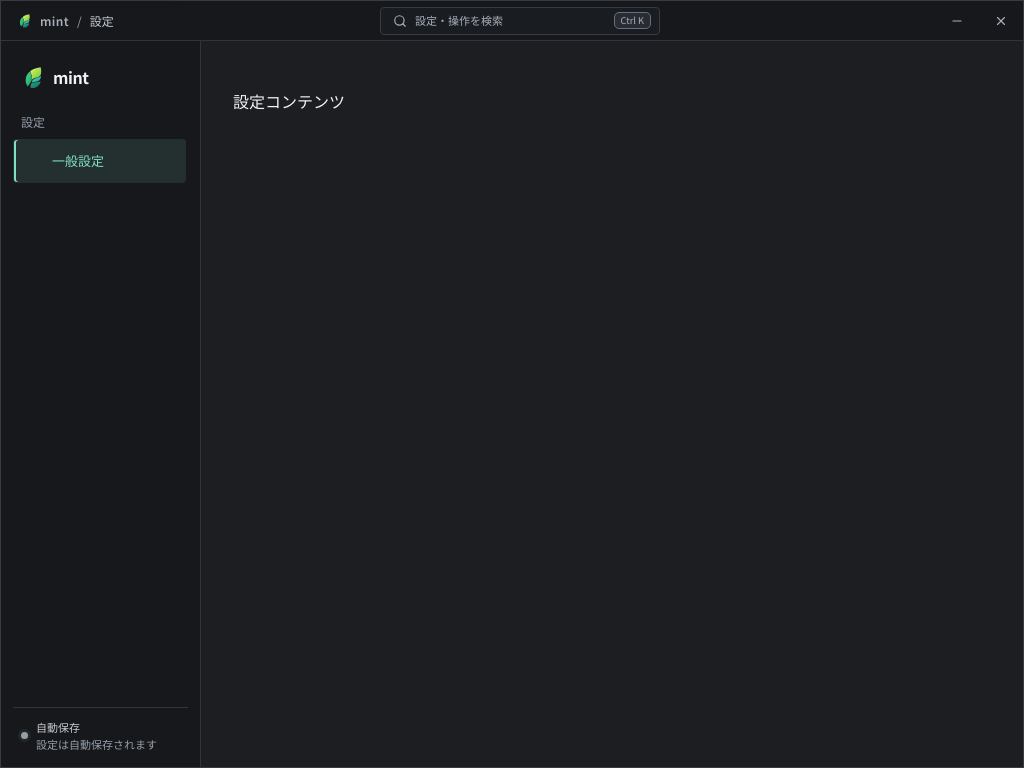
it: AppShell › keeps the quick launcher open when an action fails
Press k
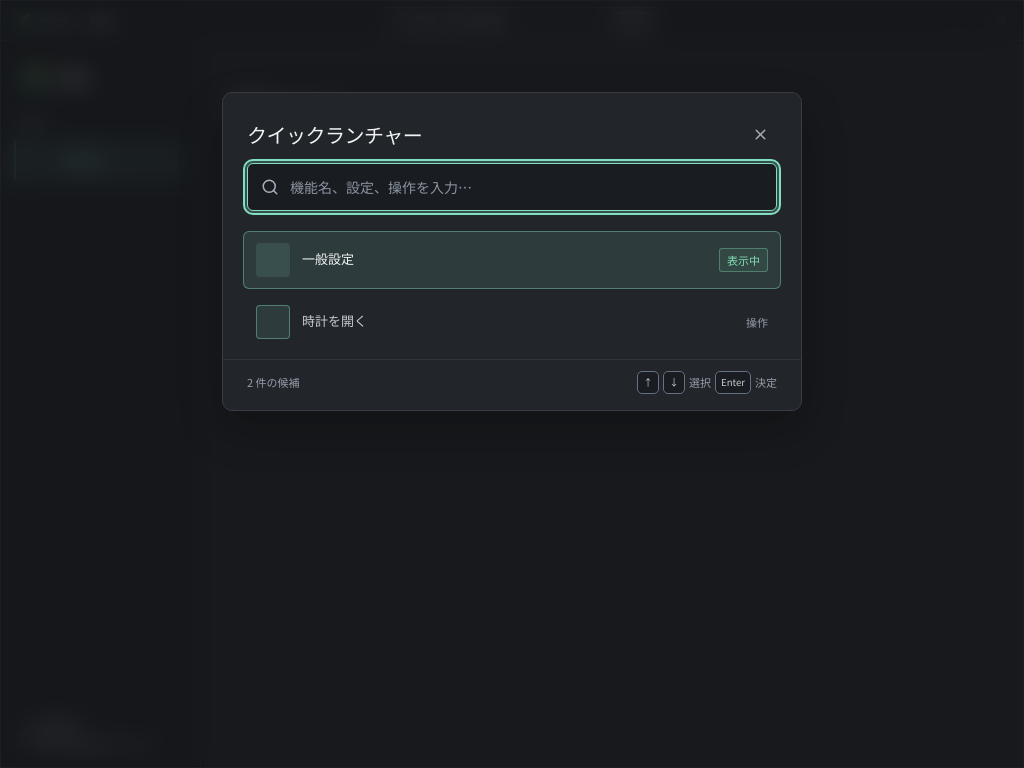
Type "時計" into the dropdown named "設定や項目、操作を検索" at (512, 187), box [247,163,777,211]
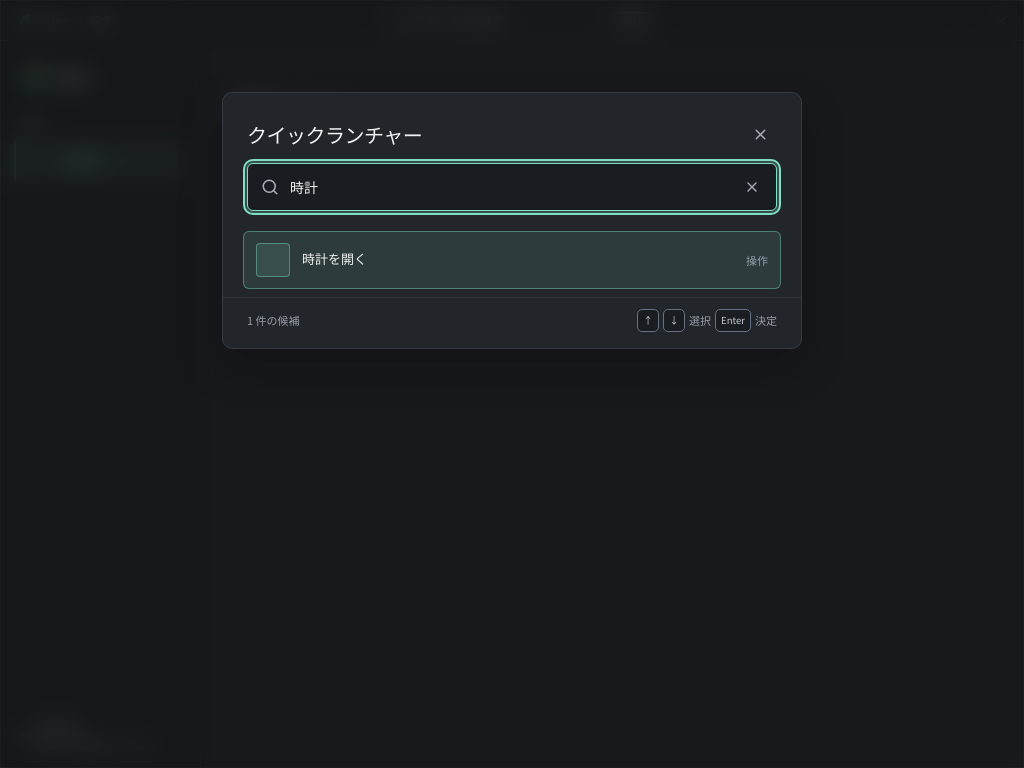
Press Enter in the dropdown named "設定や項目、操作を検索", box [247,163,777,211]
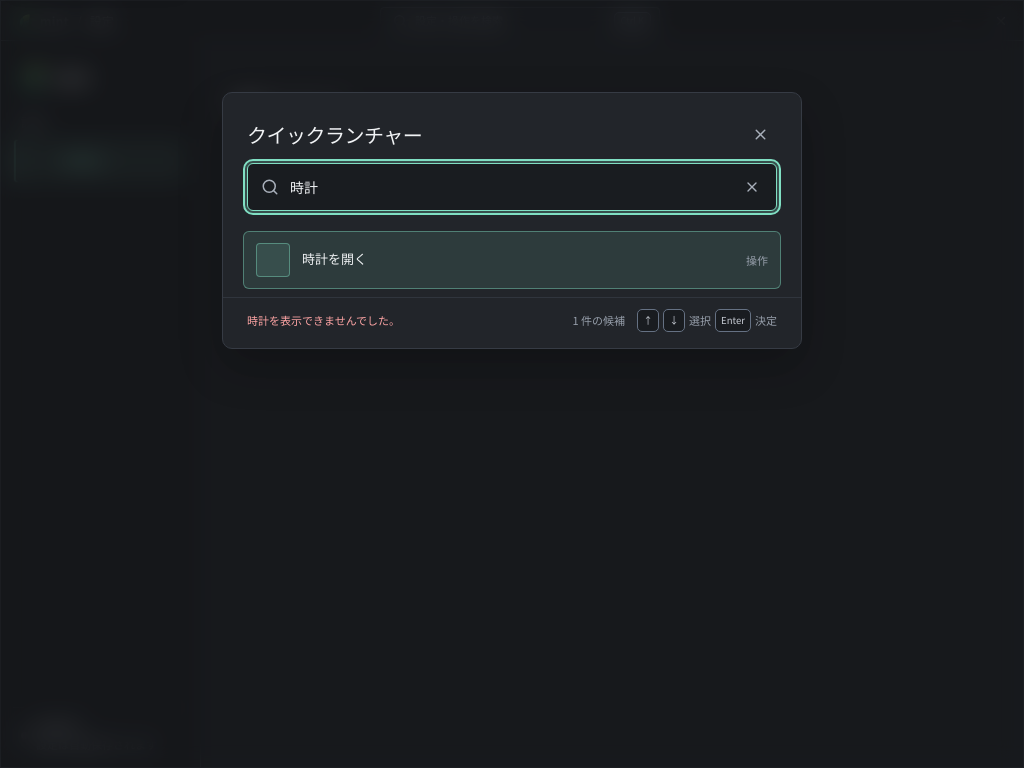
Expected: the dialog "クイックランチャー" is shown, [222,92,802,349]
Expected: the message reads "時計を表示できませんでした。", [247,312,400,328]
Expected: the message "時計を表示できませんでした。" is shown, [247,312,400,329]
